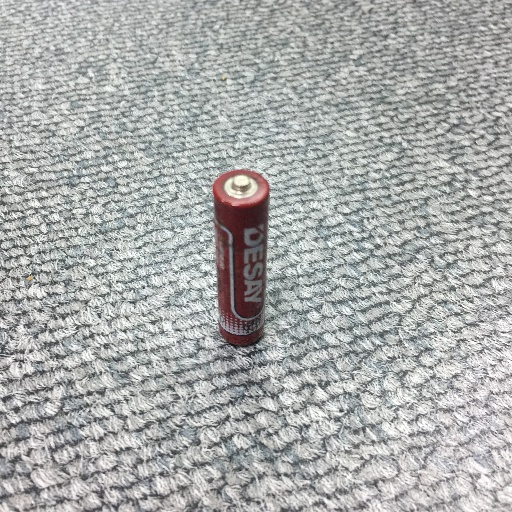Battery_0: (200, 163, 282, 354)
